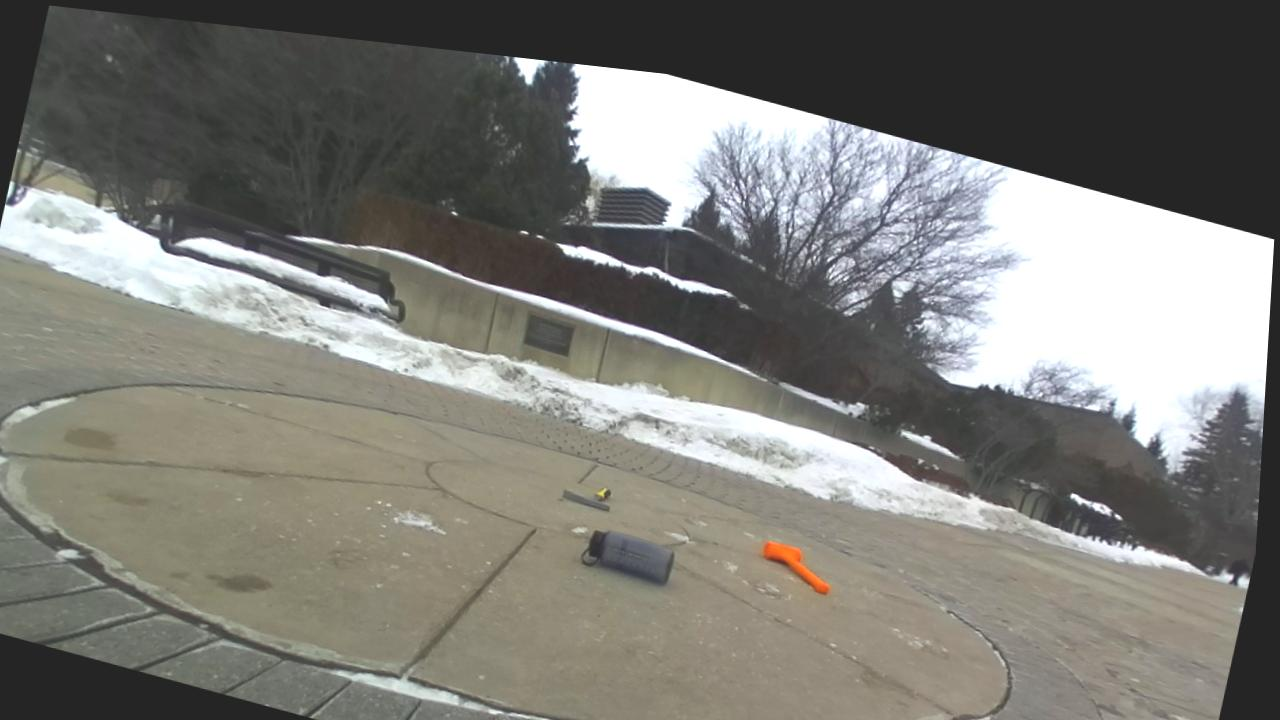bottle: (582, 530, 673, 583)
mallet: (763, 541, 828, 591)
pick: (563, 489, 609, 509)
